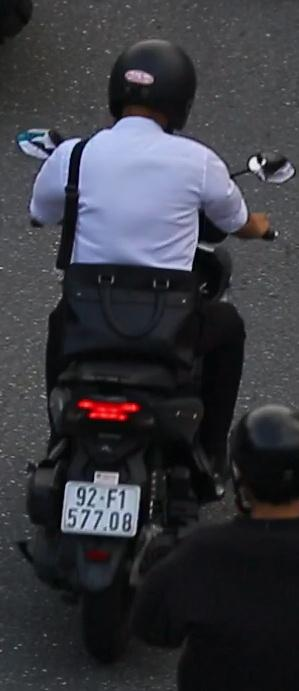LP: (57, 473, 148, 543)
helmet: (105, 36, 200, 154)
